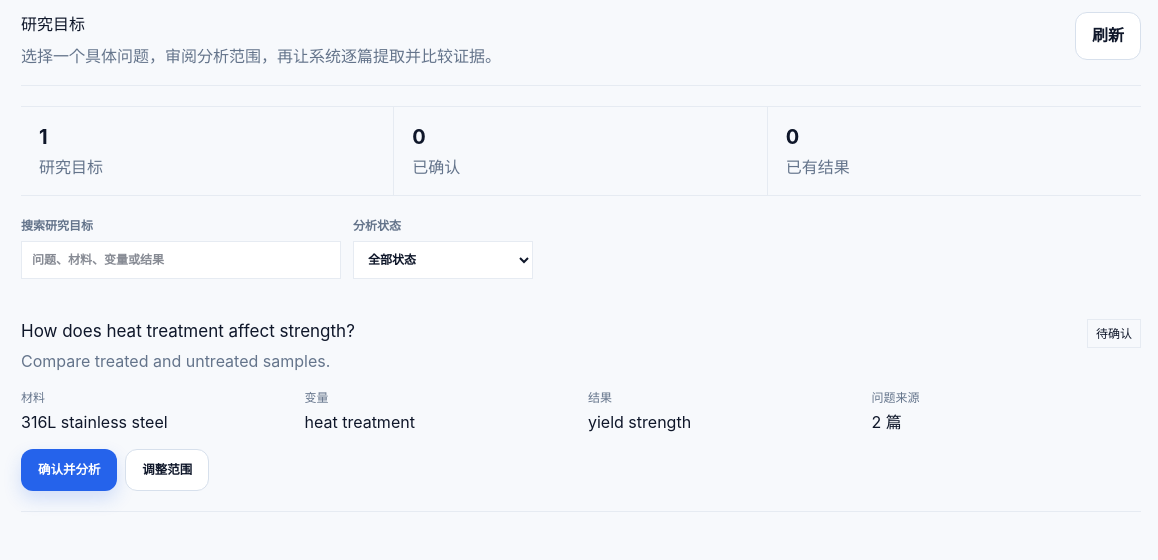
Scenario: collections/[id]/objectives/+page.svelte › uses the recommended paper scope without opening the adjustment dialog
Click the button "确认并分析".
click(69, 470)  # box [21,449,117,491]
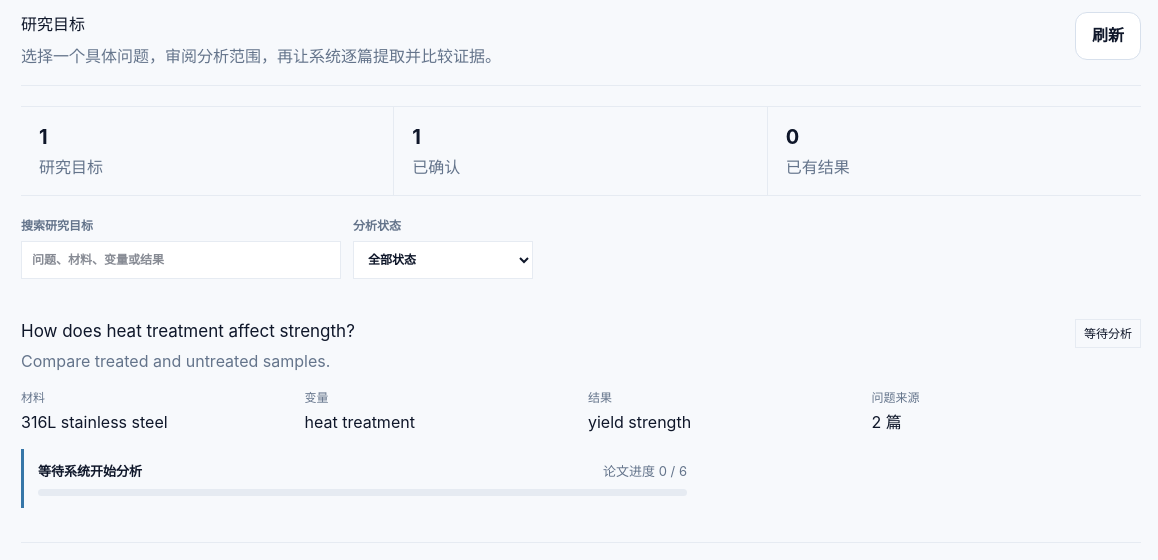
Check: the text "等待系统开始分析" is shown, box [38,461,142,481]
